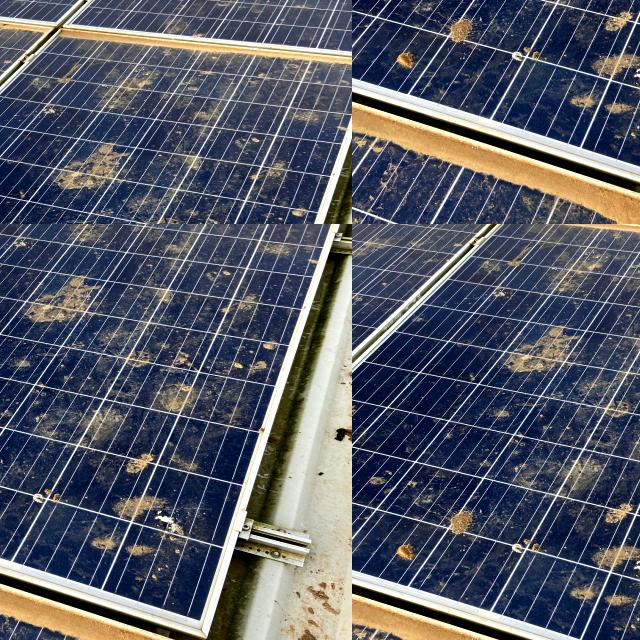bird: (500, 294, 618, 390), (563, 539, 640, 634), (403, 484, 506, 544), (496, 439, 596, 492), (361, 542, 458, 574), (501, 524, 554, 576), (605, 404, 640, 477), (352, 394, 404, 440), (597, 493, 640, 542), (44, 85, 82, 118), (0, 93, 44, 118), (3, 54, 40, 80), (64, 122, 96, 142), (28, 2, 56, 22), (51, 64, 74, 85), (0, 32, 37, 44), (0, 19, 18, 43), (40, 26, 70, 40), (0, 53, 22, 71), (0, 129, 25, 142), (0, 0, 28, 11), (0, 21, 18, 37), (0, 19, 26, 30), (0, 112, 17, 127), (27, 0, 52, 10), (0, 25, 13, 44), (0, 76, 15, 89)
dust: (352, 32, 442, 108), (352, 0, 434, 46), (612, 7, 640, 72)
shadow: (0, 224, 30, 238)
